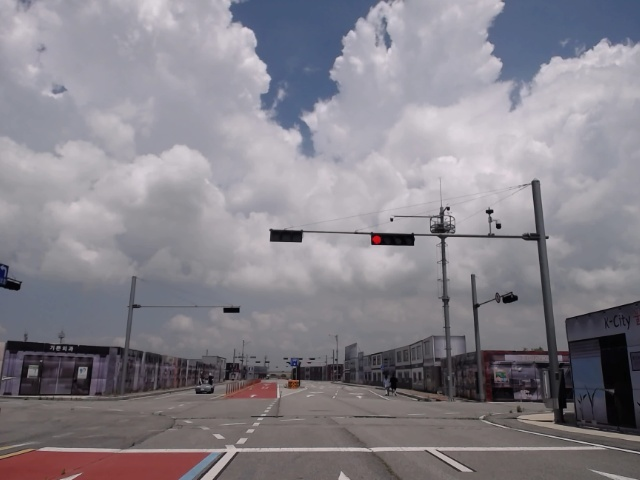red_4: (371, 234, 414, 245)
